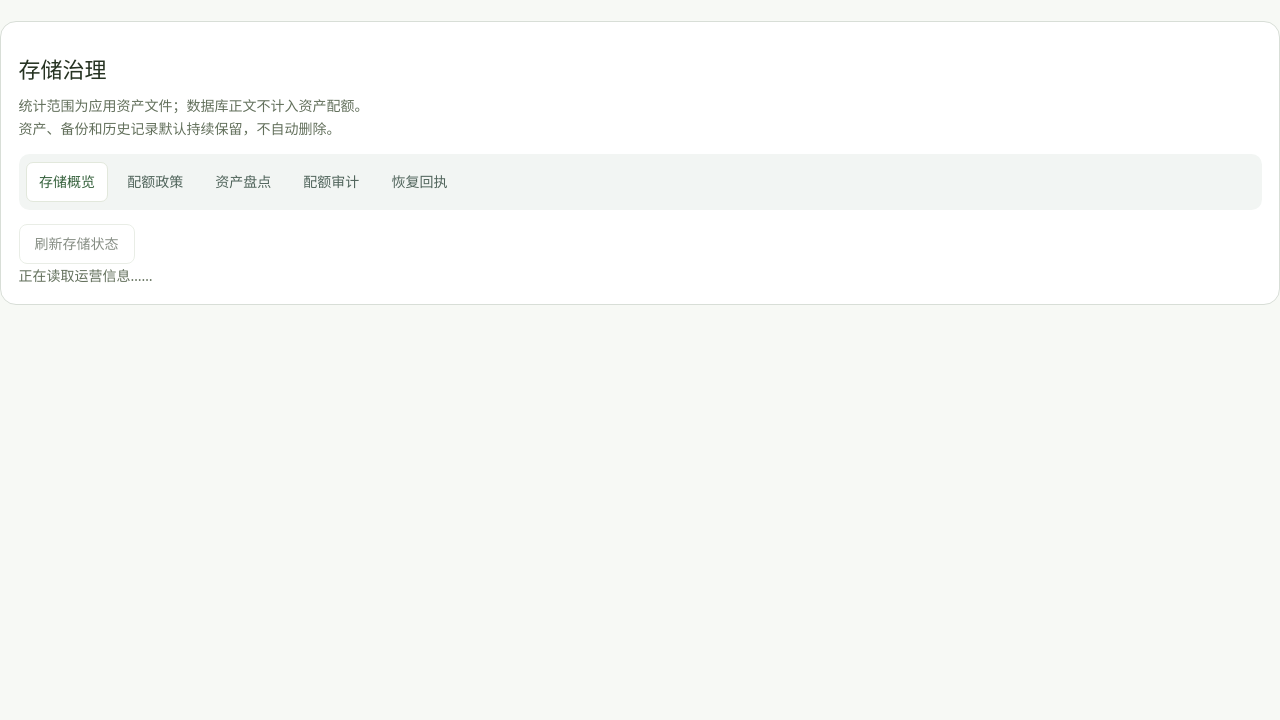
Test case: never automatically repeats an unknown quota mutation and requires fresh policy/audit reconciliation
Click the button "配额政策" at (155, 182), box [114,162,196,202]
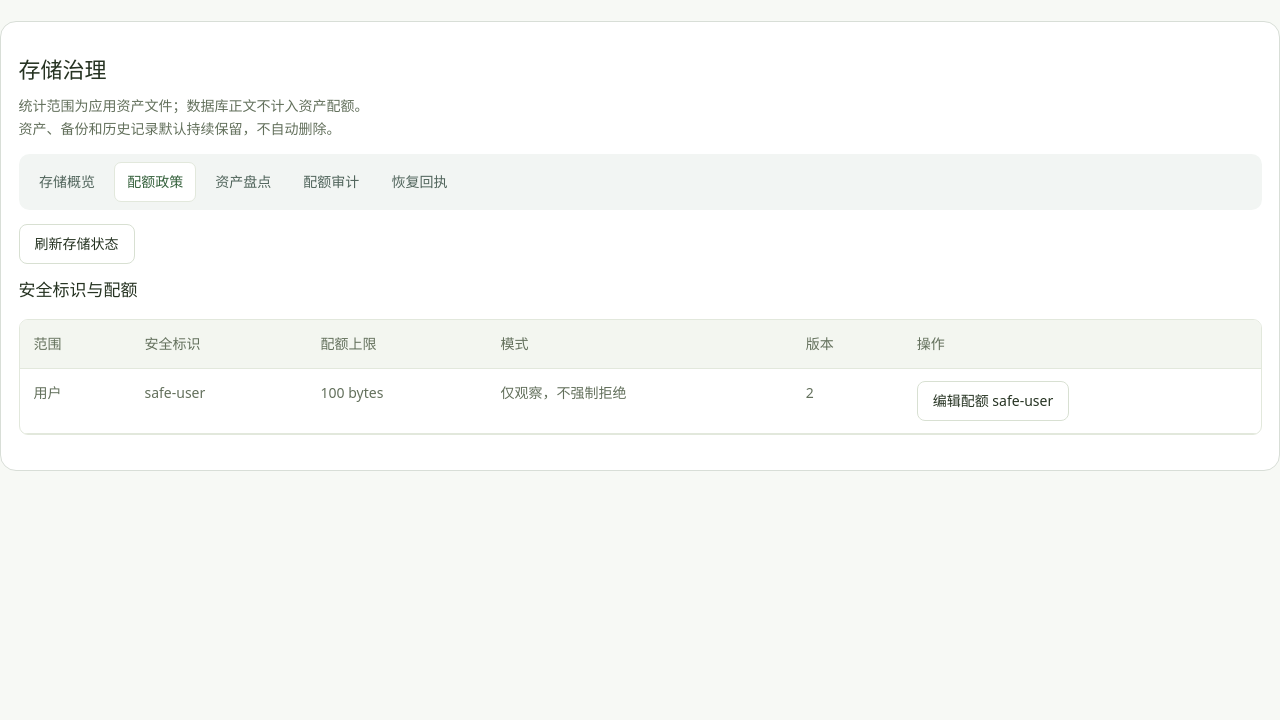
Click the button "编辑配额 safe-user" at (993, 400), box [917,380,1069,420]
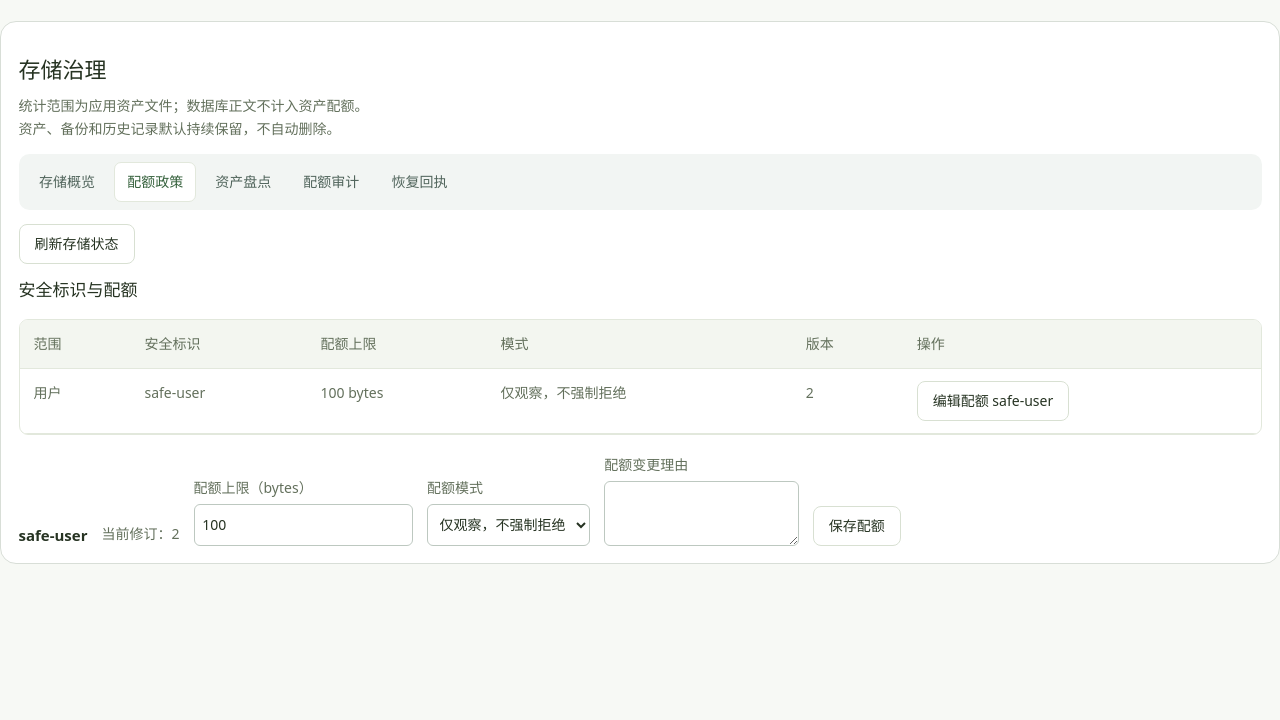
Type "Retained unknown result" into the text box labelled "配额变更理由" at (702, 513), box [604,480,799,546]
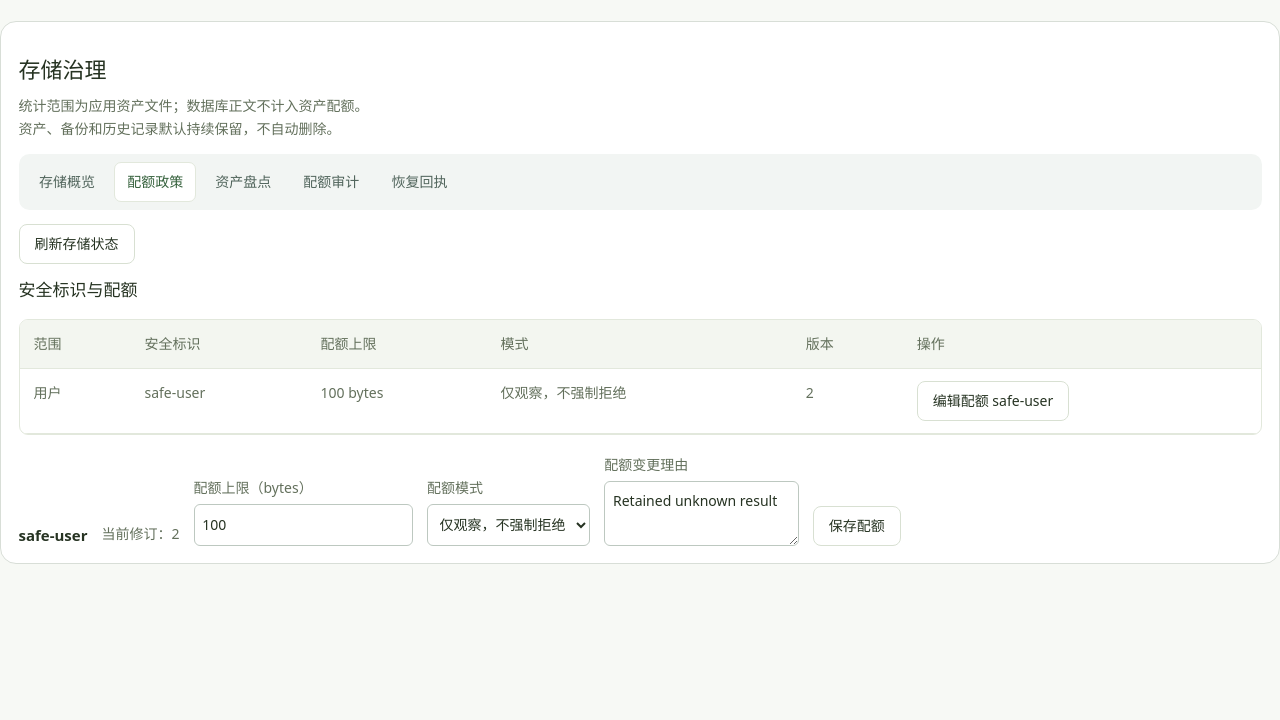
Click the button "保存配额" at (857, 526), box [813,506,901,546]
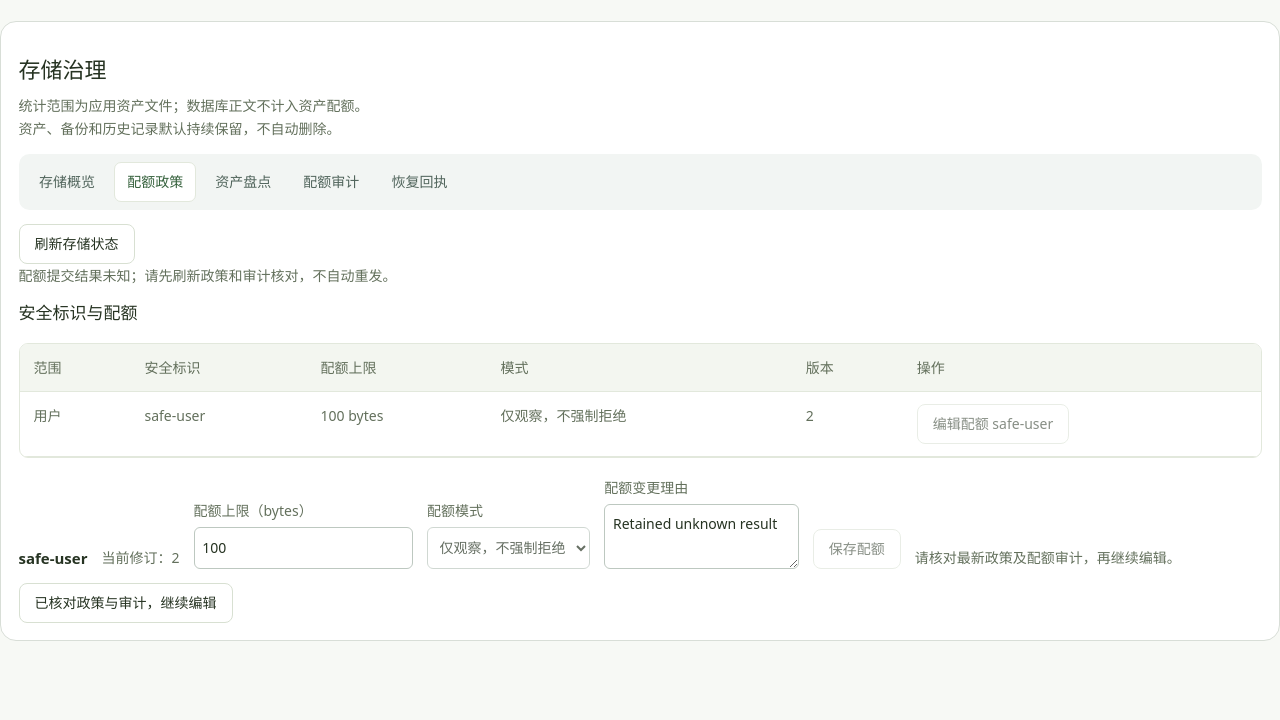
Check: the text box labelled "配额变更理由" holds "Retained unknown result", box [604,504,799,569]
Check: the text "配额提交结果未知；请先刷新政策和审计核对，不自动重发。" is shown, box [18,266,396,285]
Check: the button "已核对政策与审计，继续编辑" is enabled, box [18,583,232,623]
